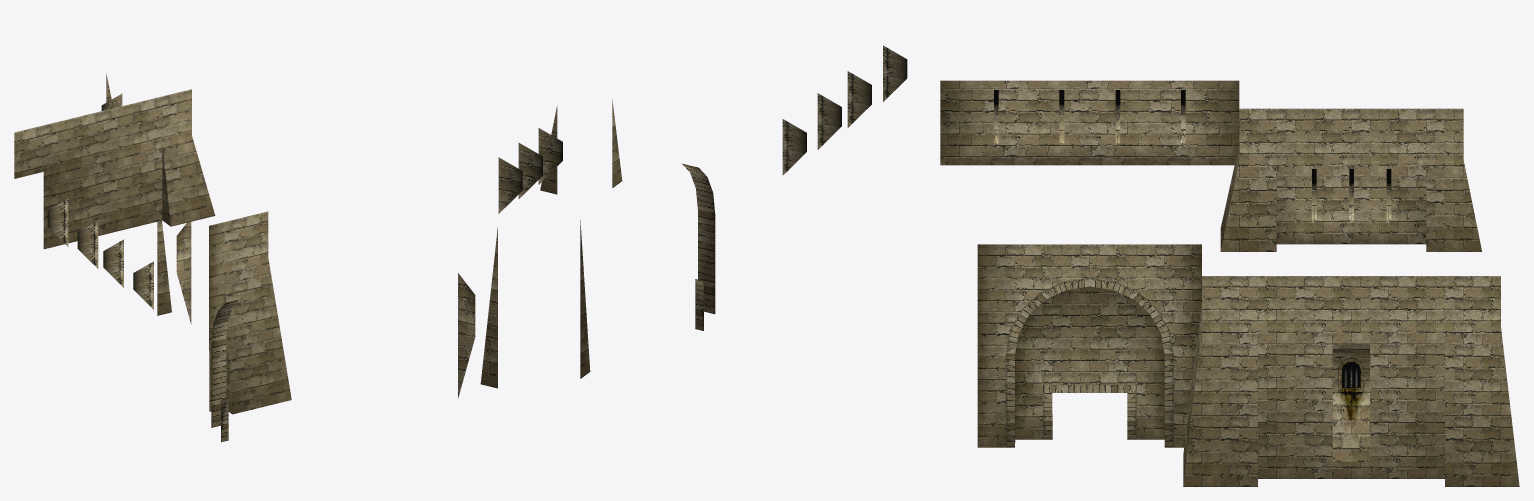
File: Mission12_ExteriorWalls02_B.glb
3 views of the same model, side by side, from view 1: azimuth 30°, elevation 25°; view 2: azimuth 150°, elevation 25°; view 3: azimuth 270°, elevation 25° (orthographic). The views are drawn at different scales.
Parts seen in each view (by area): view 1: MISSION12_EXTERIORWALLS02_B; view 2: MISSION12_EXTERIORWALLS02_B; view 3: MISSION12_EXTERIORWALLS02_B.
Boxes of the visible parts, x1,y1,x2,y2 form: MISSION12_EXTERIORWALLS02_B: (14, 73, 291, 442); MISSION12_EXTERIORWALLS02_B: (458, 45, 907, 398); MISSION12_EXTERIORWALLS02_B: (940, 80, 1519, 486).
Bounding box in the file's own units: 17 × 20 × 31.
Materials: 3 (3 with a texture image).
